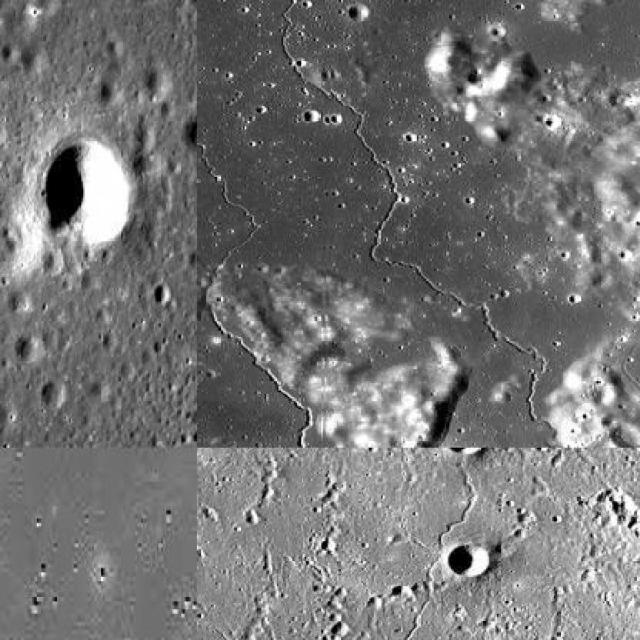rille: (277, 0, 569, 446), (197, 68, 318, 446), (395, 468, 477, 638)
